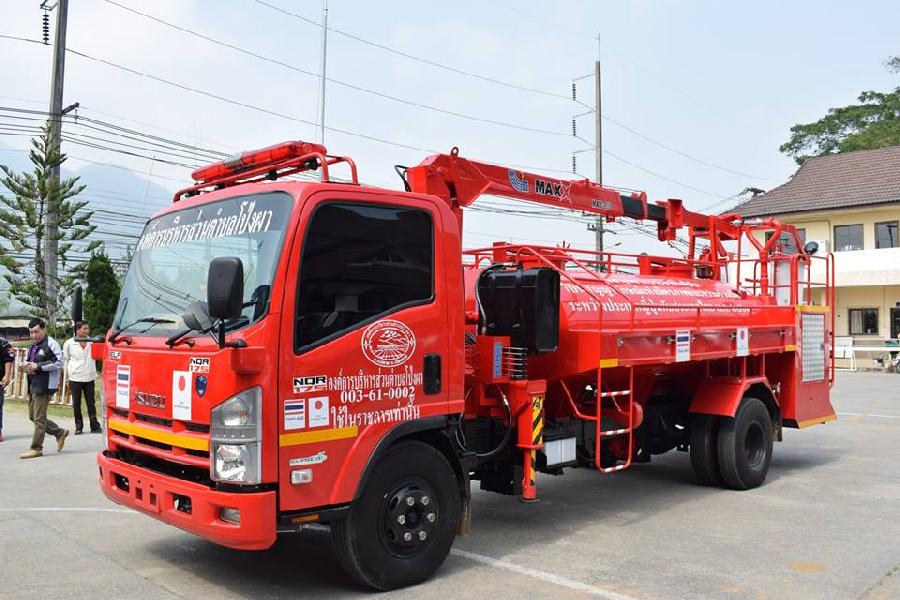truck: (96, 167, 838, 590)
